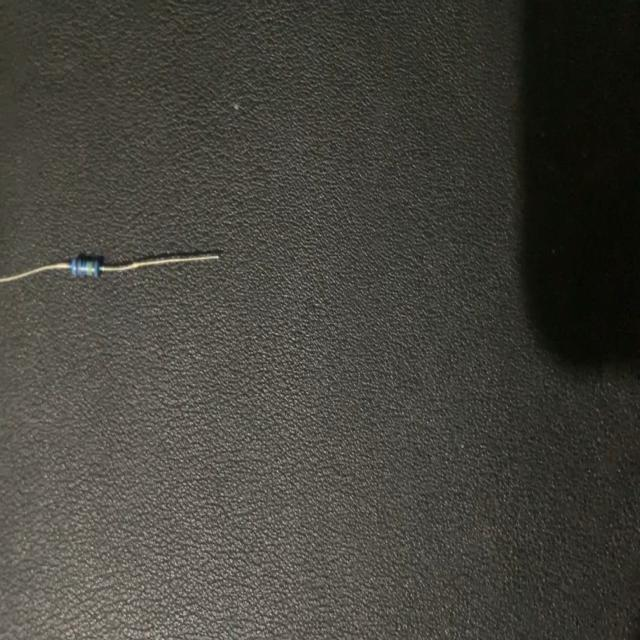resistor: (2, 244, 224, 292)
